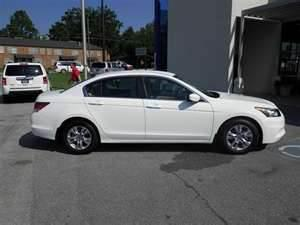Car: (25, 67, 288, 160)
